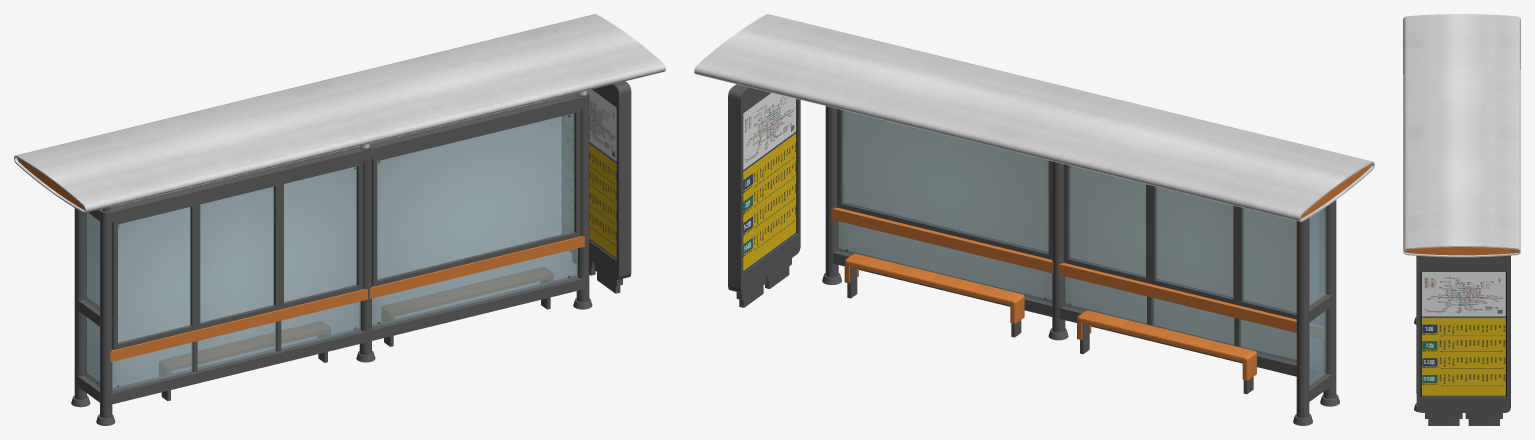
Rendered from Bus_Stop.fbx.
The picture shows the model from 3 angles, left to right: view 1: azimuth 30°, elevation 25°; view 2: azimuth 150°, elevation 25°; view 3: azimuth 270°, elevation 25°; orthographic projection. The views are drawn at different scales.
Parts seen in each view (by area): view 1: Bus_Stop; view 2: Bus_Stop; view 3: Bus_Stop.
Boxes of the visible parts, x1=… form: Bus_Stop: x1=14, y1=14, x2=665, y2=425; Bus_Stop: x1=694, y1=14, x2=1374, y2=425; Bus_Stop: x1=1403, y1=14, x2=1520, y2=425.
Size of the model in its own units: 7 by 2.71 by 1.5.
Materials: 5 (3 with a texture image).
